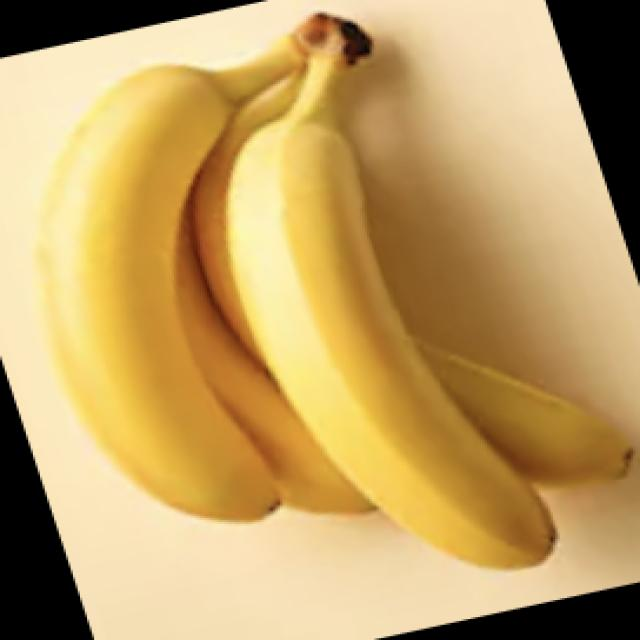god quality banana: (38, 13, 631, 569)
